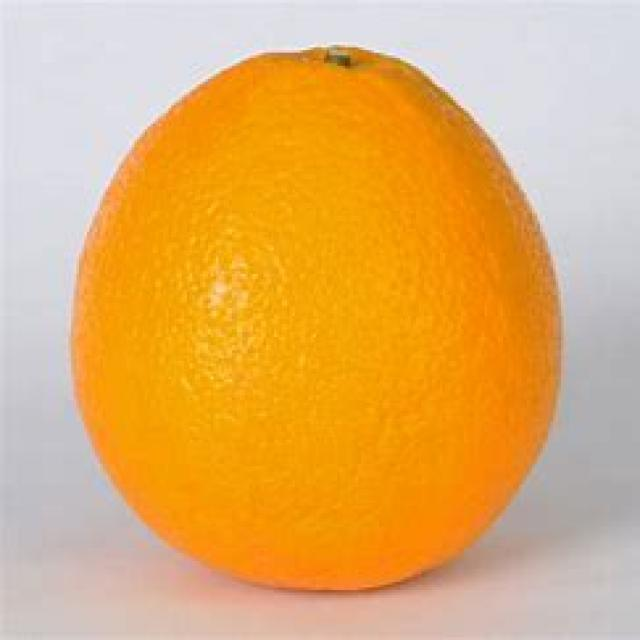Orange: (72, 49, 566, 604)
